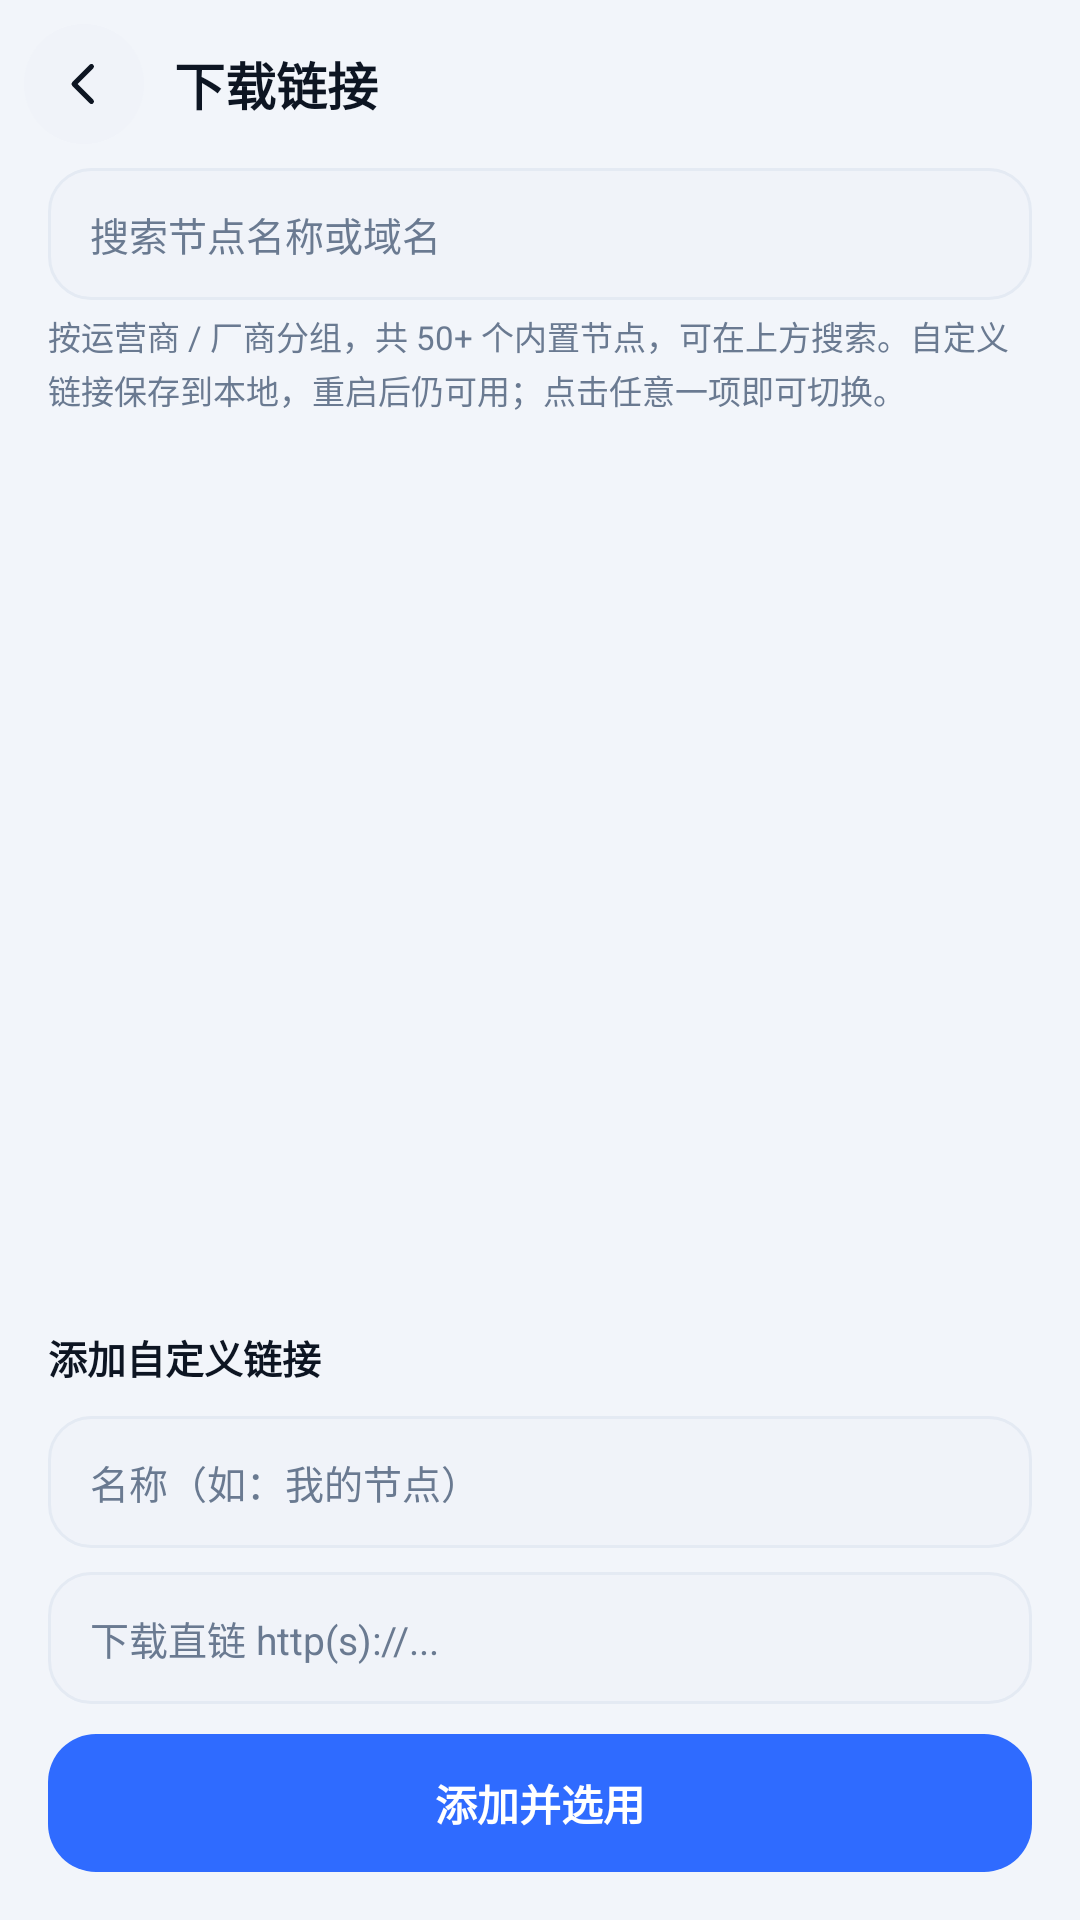

Icons on this 1080x1920 Android screen, each with its box as {"left": x1, "top": y1, "right": x2, "bottom": y2}:
back: {"left": 71, "top": 64, "right": 94, "bottom": 104}
